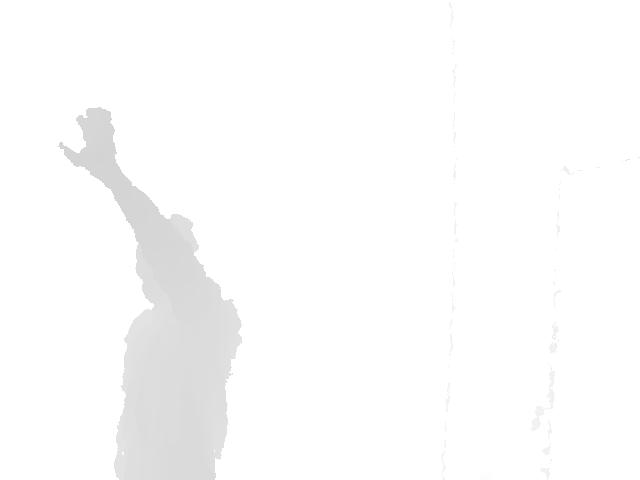hand: (56, 105, 125, 169)
head: (133, 213, 202, 308)
person: (56, 105, 244, 480)
